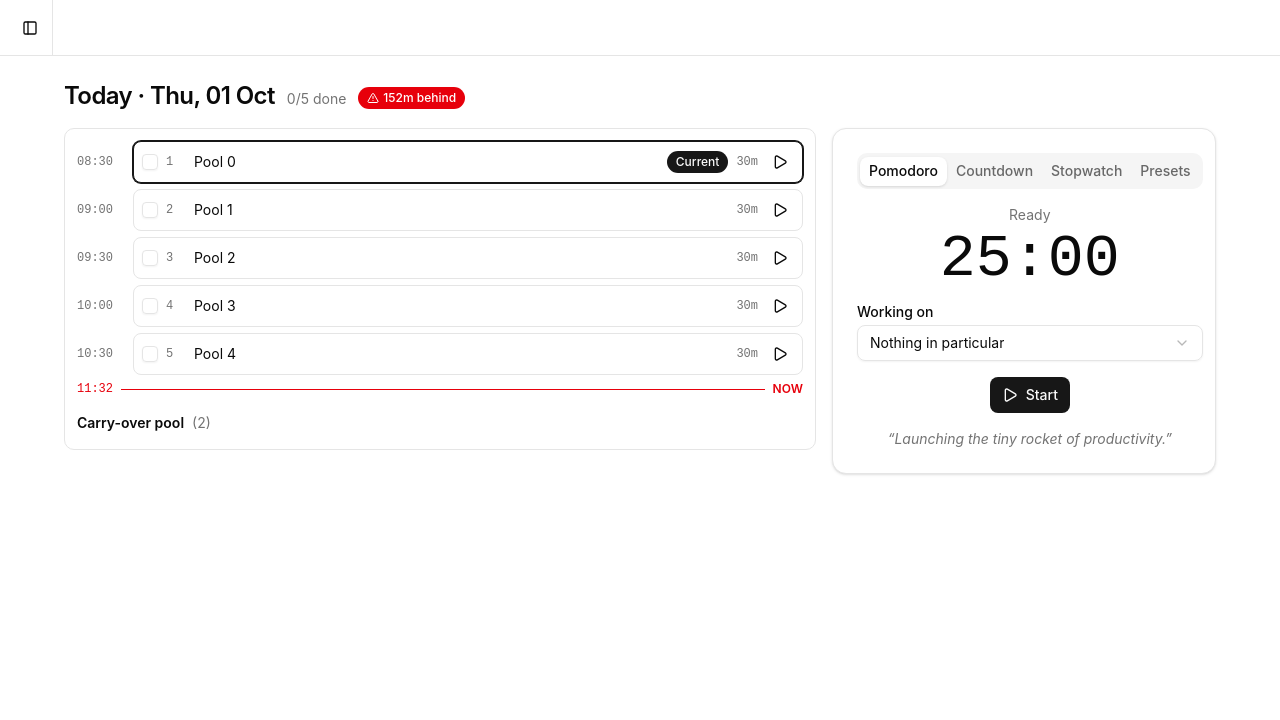
it: Today: carry-over pool › quick-adds a candidate to today, and refuses beyond a hard cap
The image size is (1280, 720).
What coordinates should you click on to do the following:
click the button "Carry-over pool (2)"
I would click on:
 (131, 422)
Its box is [77, 409, 803, 437].
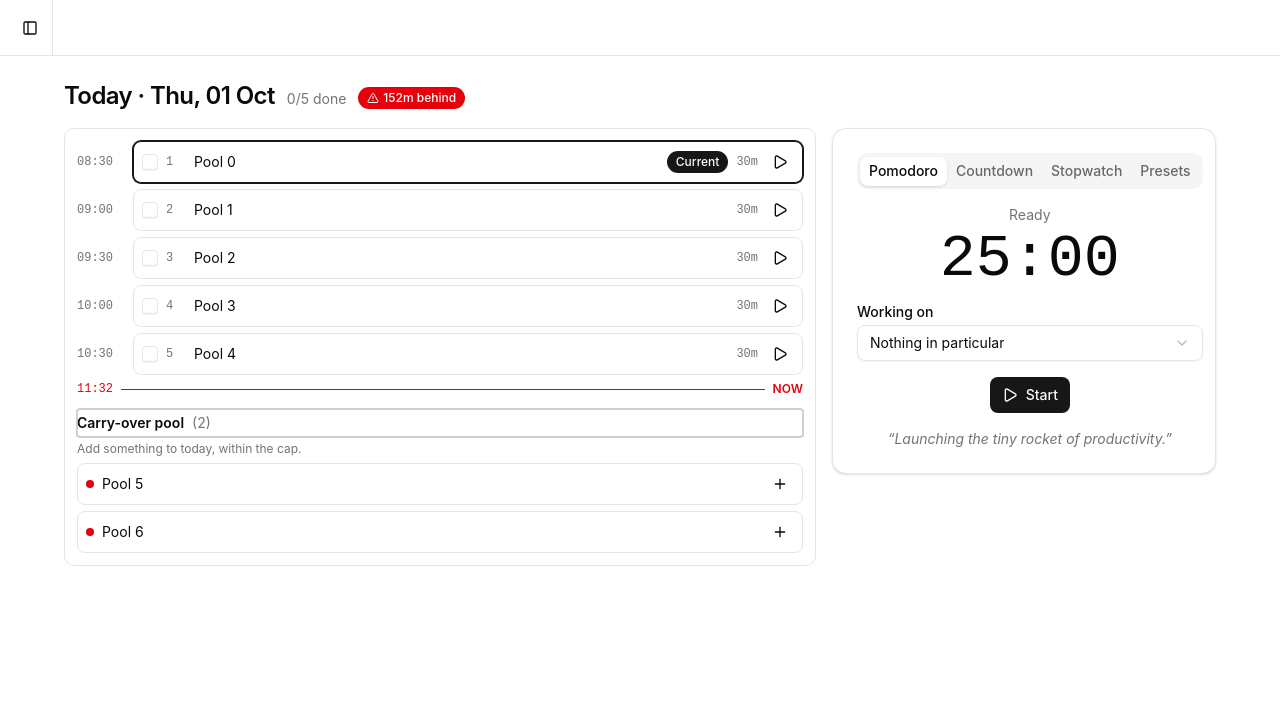
What coordinates should you click on to do the following:
click the button named "Add “Pool 5” to today"
I would click on:
 (780, 484)
Its box is [766, 470, 794, 498].
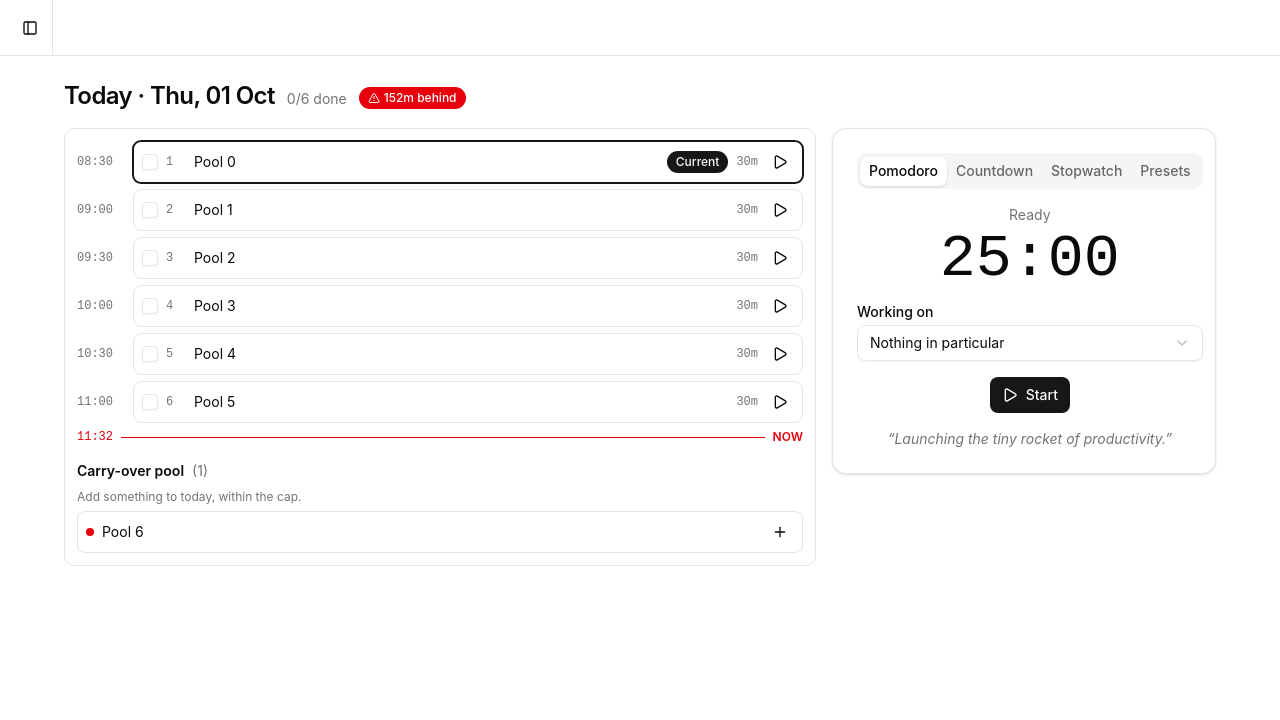
What coordinates should you click on to do the following:
click the button named "Add “Pool 6” to today"
I would click on:
 (780, 532)
Its box is [766, 518, 794, 546].
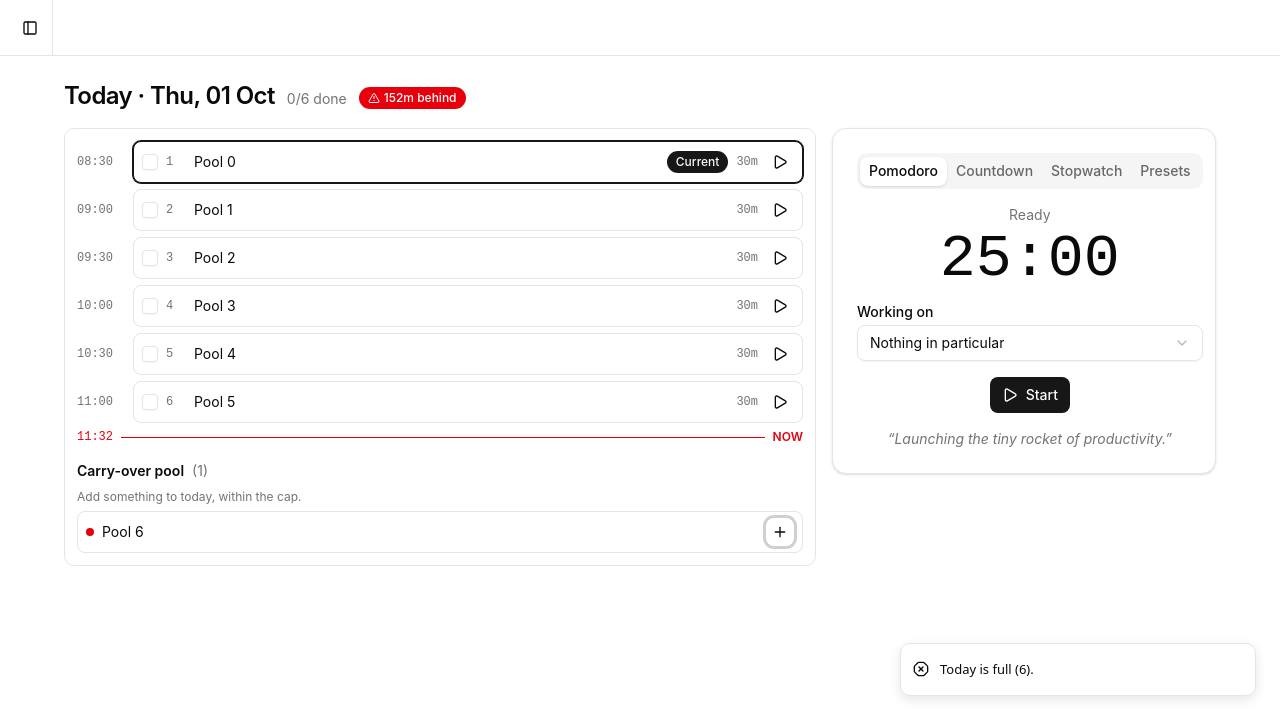
Check: the text "Today is full (6)." is shown, box [940, 660, 1034, 679]
